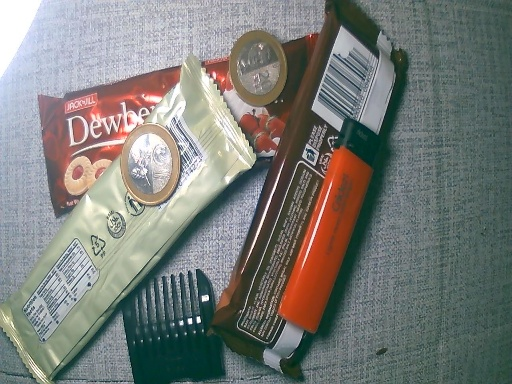metal: (118, 124, 179, 207), (228, 27, 290, 105)
plastic: (1, 68, 251, 384), (217, 9, 408, 359), (41, 39, 341, 216)
trash: (273, 118, 387, 331), (125, 263, 226, 384)
